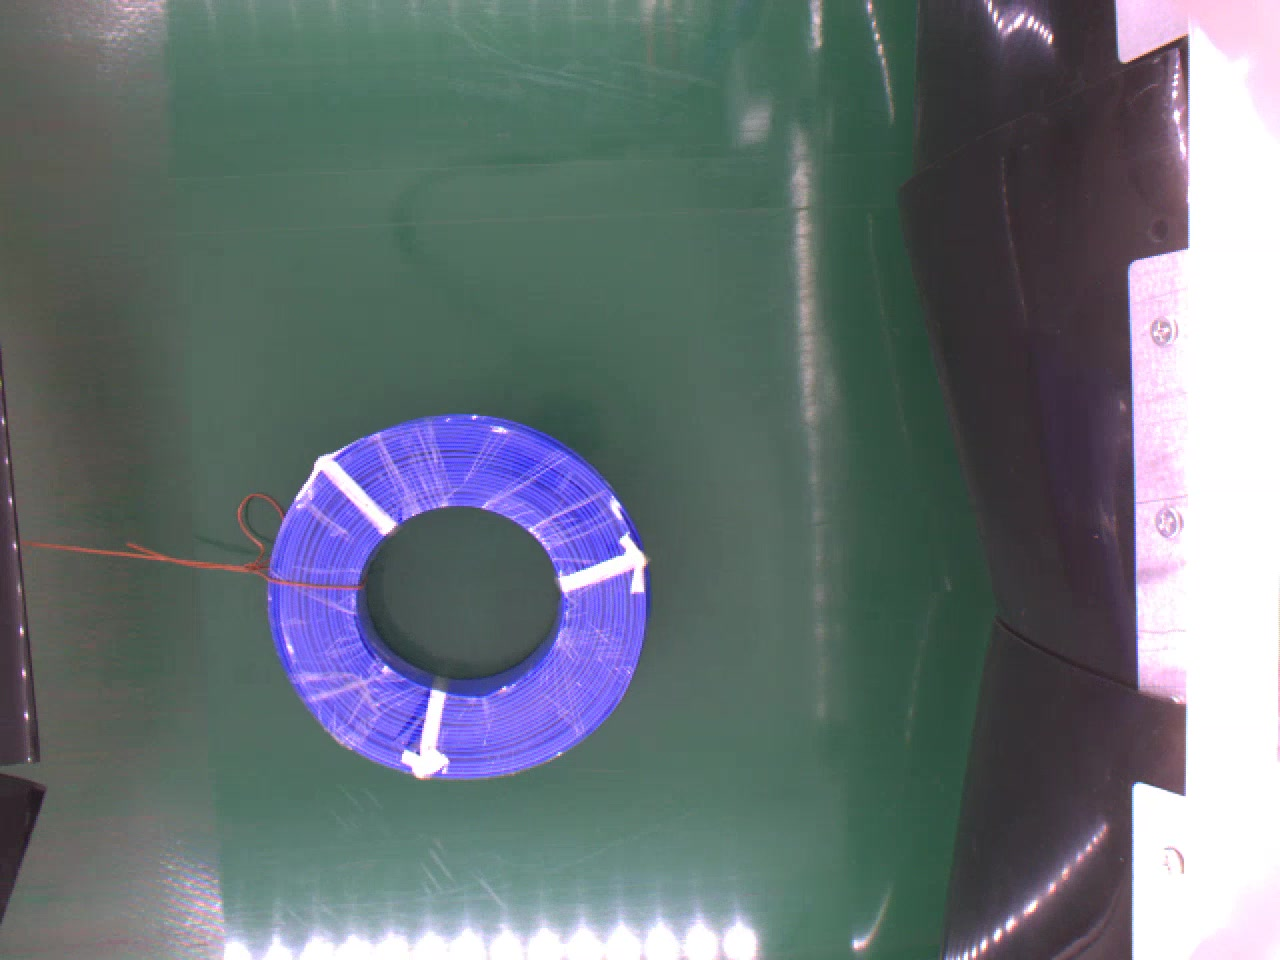blue: (270, 407, 649, 782)
